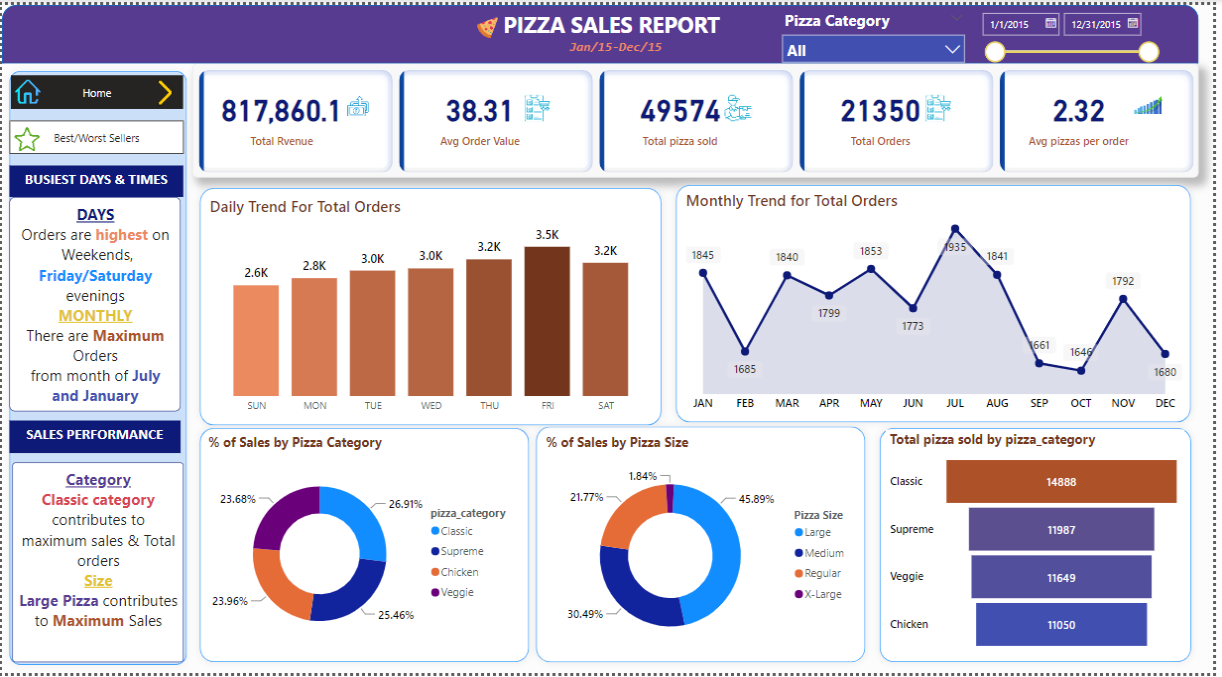

What the dashboard file says about the page in this screenshot:
{"tool":"powerbi","page":{"name":"Home","canvas":[1500,820],"ordinal":0},"visuals":[{"type":"shape","box":[0,72,238,748],"z":0},{"type":"cardVisual","fields":{"Data":["pizza_sales.Total Rvenue","pizza_sales.Avg Order Value","pizza_sales.Total pizza sold","pizza_sales.Total Orders","pizza_sales.Avg pizzas per order"]},"box":[236,72,1246,140],"z":1000},{"type":"shape","box":[0,0,1482,72],"z":2000},{"type":"textbox","box":[8.3,510,211.7,40],"z":3000},{"type":"textbox","box":[678.3,36.7,163.3,28.3],"z":4000},{"type":"image","box":[571.7,10,60,36.7],"z":5000},{"type":"textbox","box":[601.7,0,305,46.7],"z":6000},{"type":"shape","box":[826,212,656,310],"z":7000},{"type":"areaChart","title":"Monthly Trend for Total Orders","fields":{"Category":["pizza_sales.Order Month"],"Y":["pizza_sales.Total Orders"]},"box":[842,226,624,282],"z":8000},{"type":"shape","box":[236,510,426,306],"z":9000},{"type":"shape","box":[1078,510,404,306],"z":10000},{"type":"shape","box":[652,508,426,308],"z":11000},{"type":"donutChart","title":"% of Sales by Pizza Category","fields":{"Category":["pizza_sales.pizza_category"],"Y":["pizza_sales.Total Rvenue"]},"box":[250,526,394,276],"z":12000},{"type":"donutChart","title":"% of Sales by Pizza Size","fields":{"Y":["pizza_sales.Total Rvenue"],"Category":["pizza_sales.Pizza Size"]},"box":[668,526,396,280],"z":13000},{"type":"funnel","fields":{"Category":["pizza_sales.pizza_category"],"Y":["pizza_sales.Total pizza sold"]},"box":[1094,522,370,280],"z":14000},{"type":"shape","box":[236,216,590,310],"z":15000},{"type":"columnChart","title":"Daily Trend For Total Orders","fields":{"Category":["pizza_sales.Order Day"],"Y":["pizza_sales.Total Orders"]},"box":[252,234,558,276],"z":16000},{"type":"textbox","box":[10,235,211.7,263.3],"z":17000},{"type":"textbox","box":[8.3,196.7,215,38.3],"z":18000},{"type":"textbox","box":[13.3,561.7,211.7,245],"z":19000},{"type":"slicer","fields":{"Values":["pizza_sales.pizza_category"]},"box":[956,0,246,72],"z":20000},{"type":"slicer","fields":{"Values":["pizza_sales.order_date"]},"box":[1202,0,240,72],"z":21000},{"type":"pageNavigator","box":[11.7,86.7,213.3,41.7],"z":22000},{"type":"pageNavigator","box":[8.3,141.7,216.7,41.7],"z":23000},{"type":"image","box":[180,86.7,43.3,41.7],"z":24000},{"type":"image","box":[11.7,85,41.7,43.3],"z":24001},{"type":"image","box":[6.7,143.3,46.7,41.7],"z":24002}]}

Visuals, with their boxes in screenshot pixels (x1, y1, x2, y2), scaled from the page's 1500x820 canvas onto the 1222x677 screenshot:
shape: l=0, t=59, r=194, b=676
cardVisual - pizza_sales.Total Rvenue x pizza_sales.Avg Order Value: l=192, t=59, r=1207, b=175
shape: l=0, t=0, r=1207, b=59
textbox: l=7, t=421, r=179, b=454
textbox: l=553, t=30, r=686, b=54
image: l=466, t=8, r=515, b=39
textbox: l=490, t=0, r=739, b=39
shape: l=673, t=175, r=1207, b=431
"Monthly Trend for Total Orders" areaChart: l=686, t=187, r=1194, b=419
shape: l=192, t=421, r=539, b=674
shape: l=878, t=421, r=1207, b=674
shape: l=531, t=419, r=878, b=674
"% of Sales by Pizza Category" donutChart: l=204, t=434, r=525, b=662
"% of Sales by Pizza Size" donutChart: l=544, t=434, r=867, b=665
funnel - pizza_sales.pizza_category x pizza_sales.Total pizza sold: l=891, t=431, r=1193, b=662
shape: l=192, t=178, r=673, b=434
"Daily Trend For Total Orders" columnChart: l=205, t=193, r=660, b=421
textbox: l=8, t=194, r=181, b=411
textbox: l=7, t=162, r=182, b=194
textbox: l=11, t=464, r=183, b=666
slicer - pizza_sales.pizza_category: l=779, t=0, r=979, b=59
slicer - pizza_sales.order_date: l=979, t=0, r=1175, b=59
pageNavigator: l=10, t=72, r=183, b=106
pageNavigator: l=7, t=117, r=183, b=151
image: l=147, t=72, r=182, b=106
image: l=10, t=70, r=44, b=106
image: l=5, t=118, r=44, b=153
